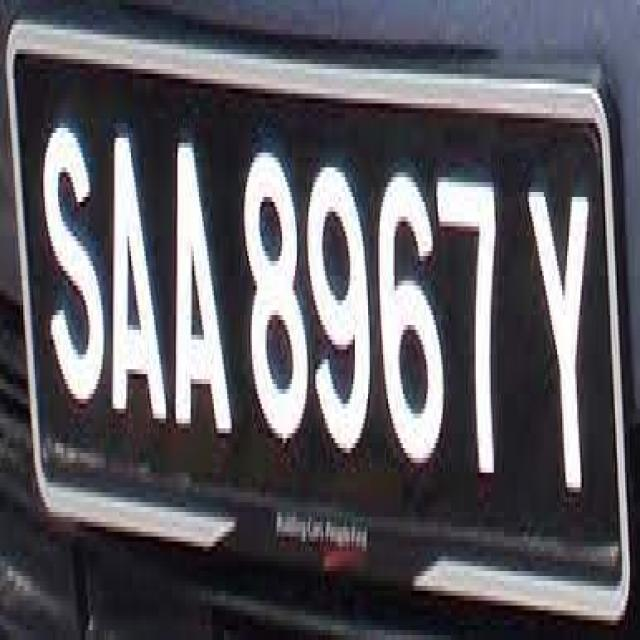License_Plate: (1, 15, 640, 639)
